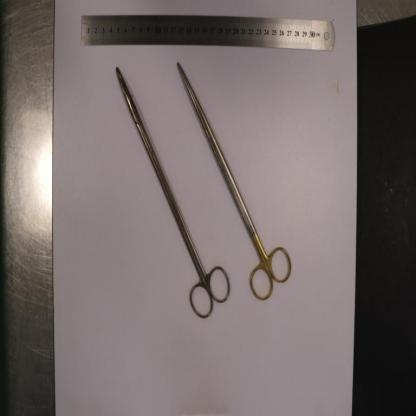7 Metzenbaum Scissors: (176, 58, 294, 302)
9 Metzenbaum Scissors: (115, 64, 231, 320)
